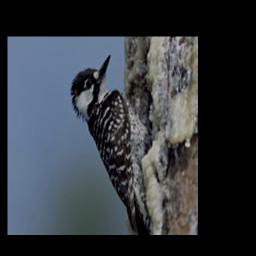Woodpecker: (70, 48, 174, 230)
